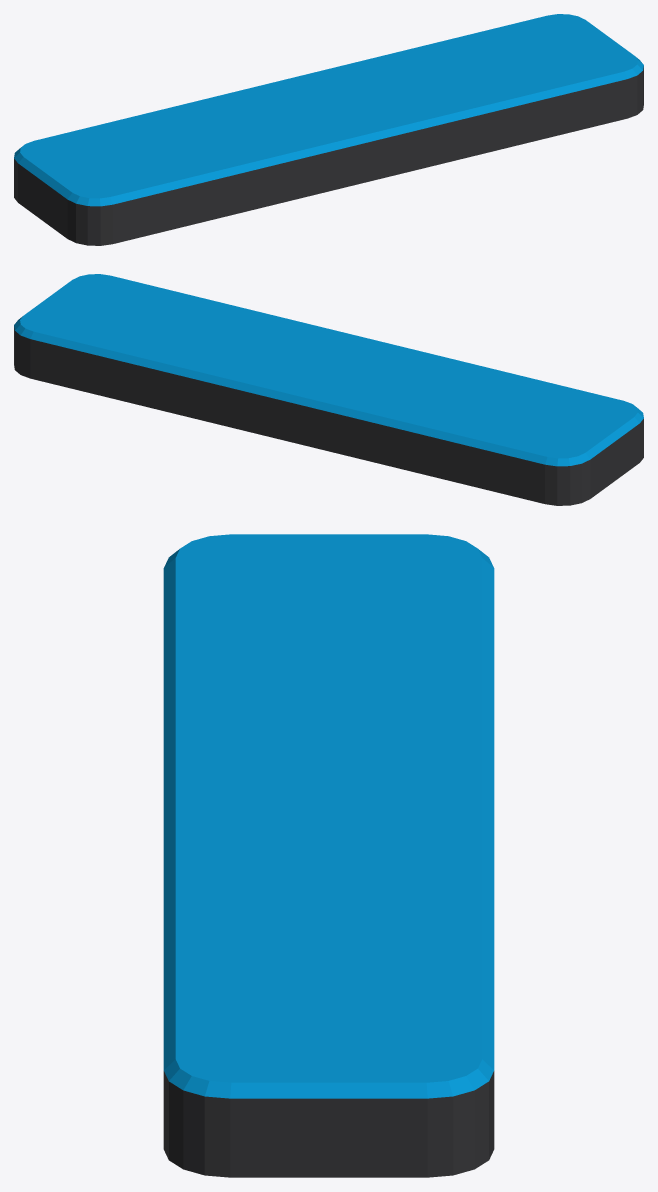
Rendered from Button.fbx.
The picture shows the model from 3 angles, top to bottom: view 1: azimuth 30°, elevation 25°; view 2: azimuth 150°, elevation 25°; view 3: azimuth 270°, elevation 25°; orthographic projection. The views are drawn at different scales.
Visible parts, largest first — view 1: Cube.003; view 2: Cube.003; view 3: Cube.003.
Boxes of the visible parts, x1=… form: Cube.003: x1=14, y1=14, x2=643, y2=245; Cube.003: x1=14, y1=274, x2=643, y2=505; Cube.003: x1=163, y1=534, x2=494, y2=1177.
Bounding box in the file's own units: 40 × 3 × 10.
